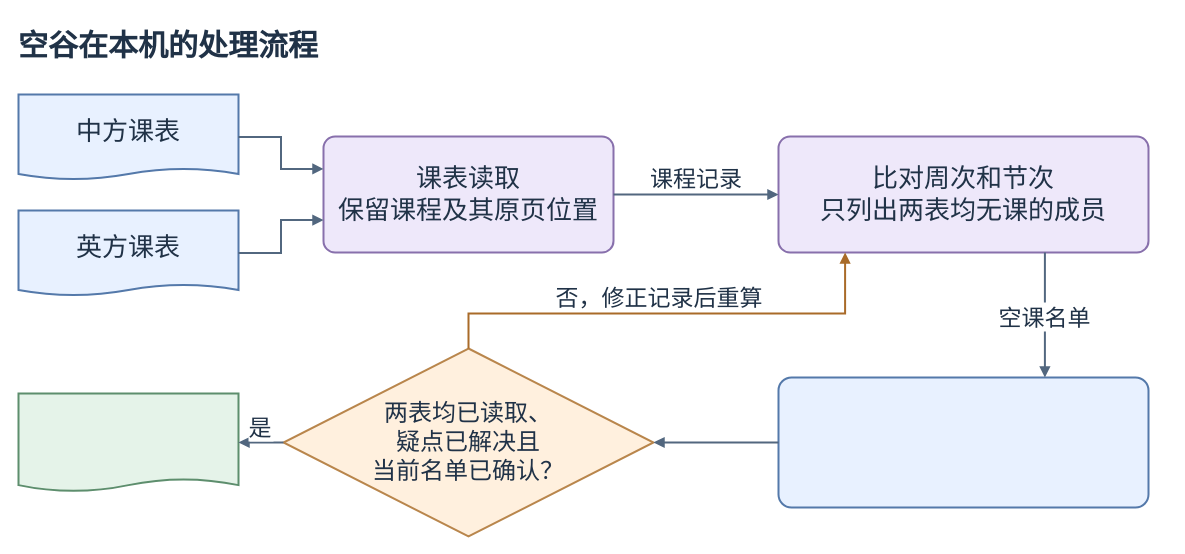
Image size: 1185x554. Some labels were removed from this diagram. Each missing label, with the box of its shape:
协会办公室核查 对照两份原课表 查找错列和漏列的姓名: (777, 376, 1149, 508)
最终空课表 （Excel）: (17, 392, 239, 492)
